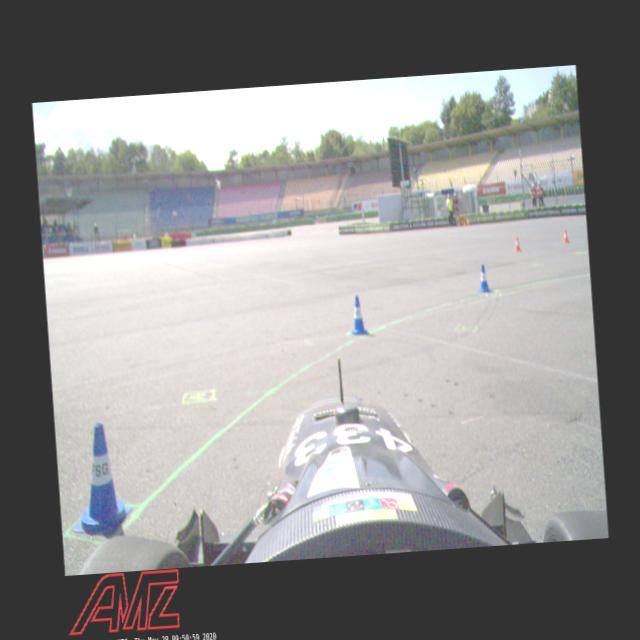blue_cone: (64, 420, 134, 538), (347, 294, 369, 336), (476, 264, 493, 292)
orange_cone: (512, 236, 522, 252), (562, 229, 570, 243)
